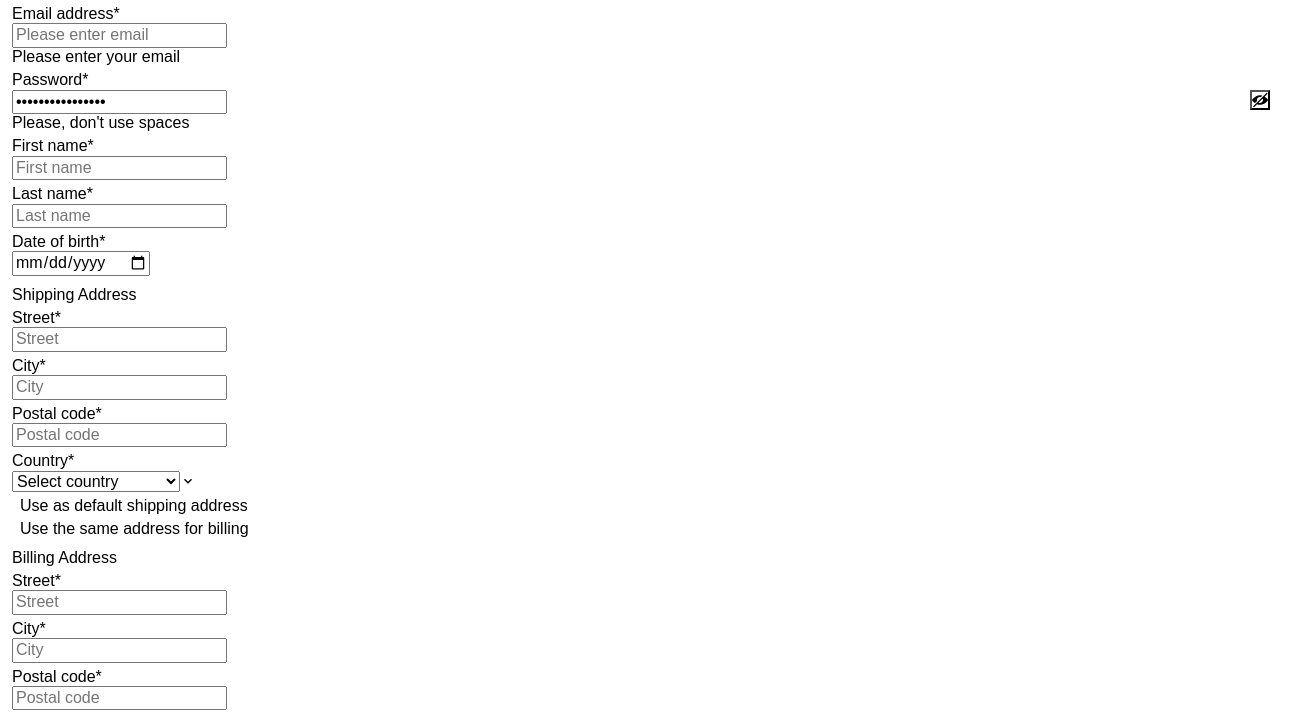
Test: SignUpForm › should say if password doesn't contain at least one capital letter and one lowercase letter
Step 1. Type "111" into the password field with placeholder "Create a password" → [120, 102], box [12,90,227,114]
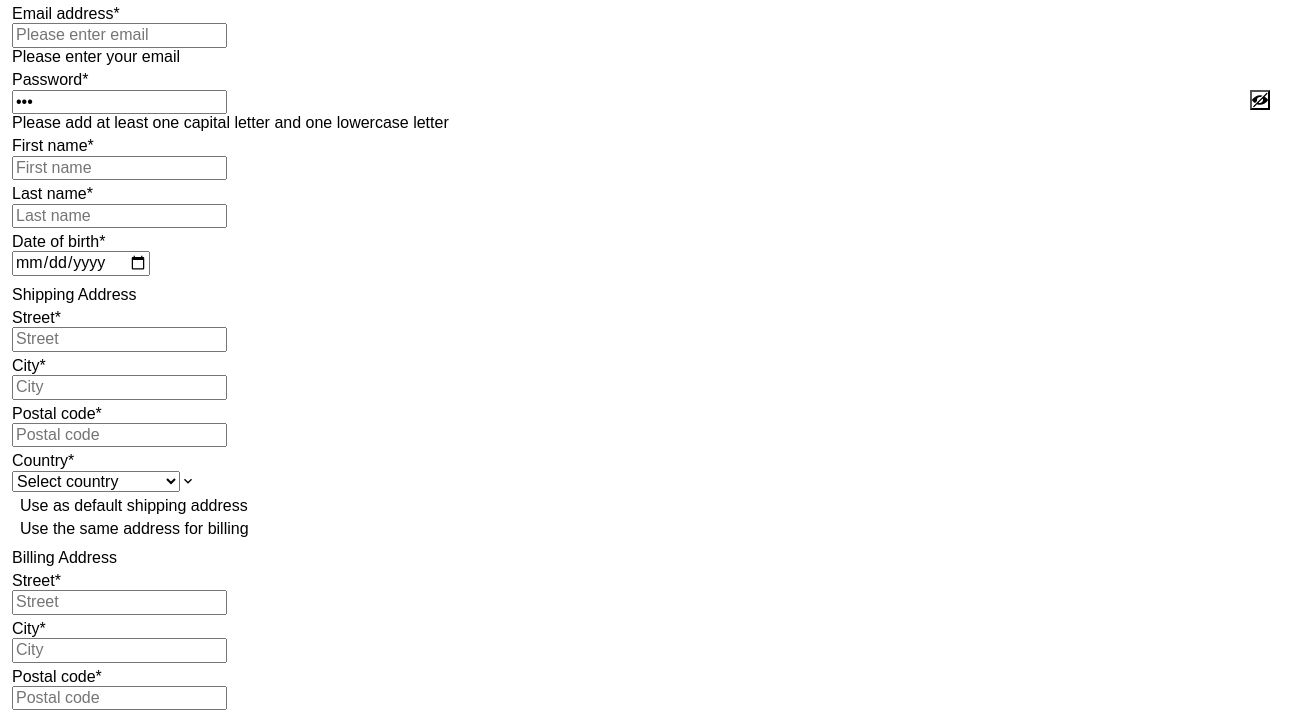
Expected: the text "Please add at least one capital letter and one lowercase letter" is shown, [12,114,449,131]
